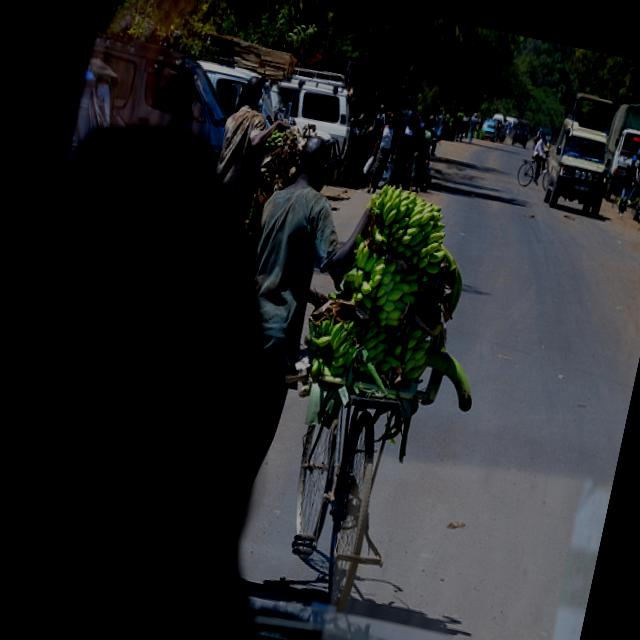Vehicle: (75, 32, 242, 167), (256, 61, 364, 185), (541, 88, 624, 218), (593, 93, 640, 209), (187, 58, 252, 119), (478, 116, 501, 142), (532, 125, 554, 152), (510, 120, 530, 148), (493, 110, 506, 124)
